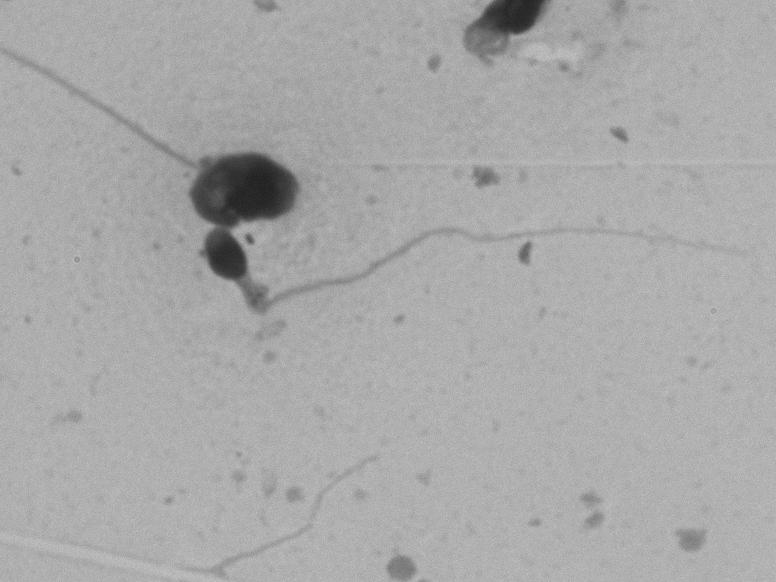Abnormal: (186, 219, 740, 363)
